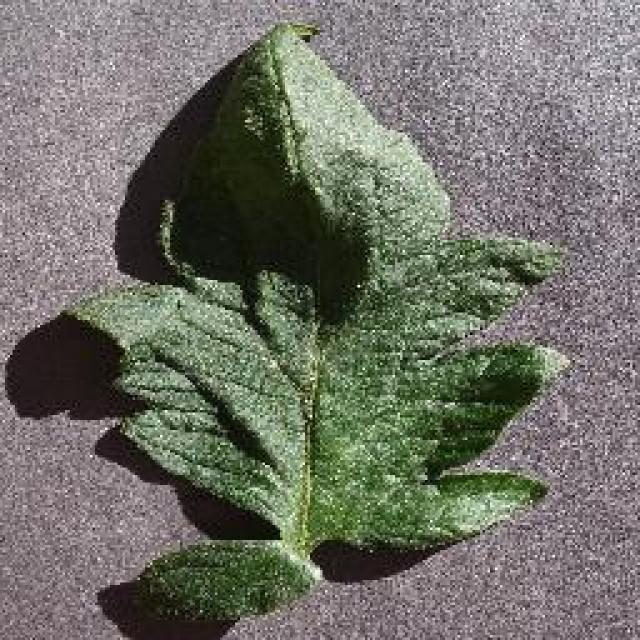Tomato healthy leaf: (78, 24, 560, 598)
